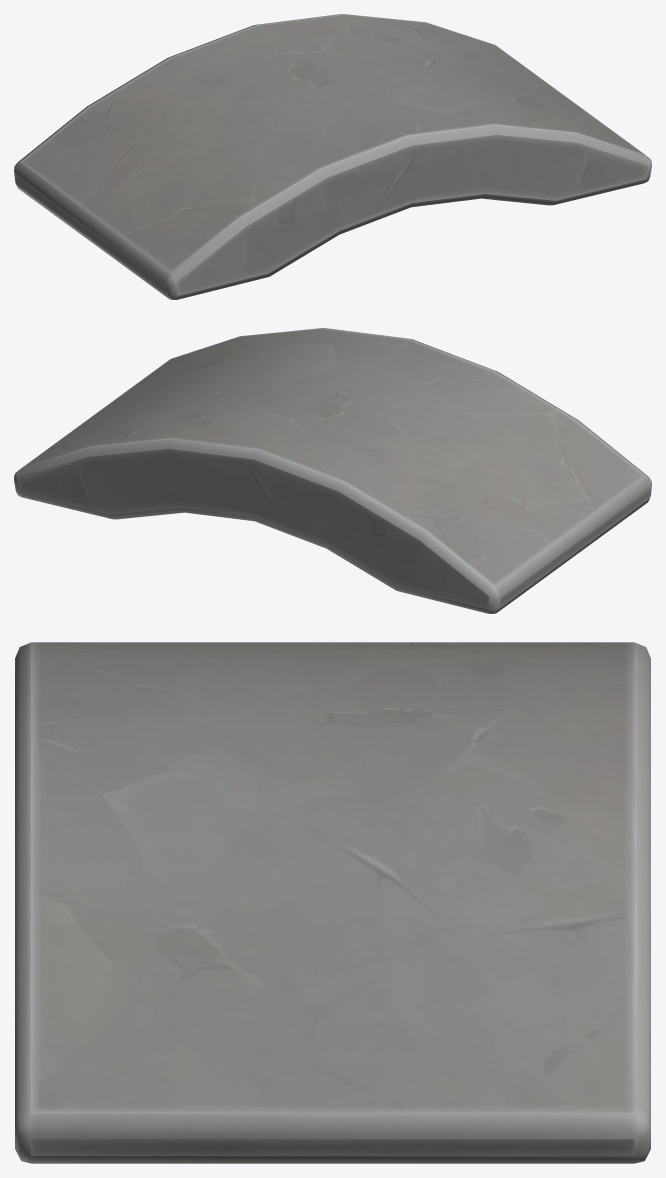
The model's file is Bridge_02.fbx.
3 renders of one model, top to bottom at view 1: azimuth 30°, elevation 25°; view 2: azimuth 150°, elevation 25°; view 3: azimuth 270°, elevation 25°, orthographic. The views are drawn at different scales.
Parts seen in each view (by area): view 1: Bridge_02; view 2: Bridge_02; view 3: Bridge_02.
Boxes of the visible parts, x1,y1,x2,y2 form: Bridge_02: [14, 14, 651, 299]; Bridge_02: [14, 328, 651, 613]; Bridge_02: [15, 642, 650, 1163].
Bounding box in the file's own units: 3.52 × 0.7462 × 2.
